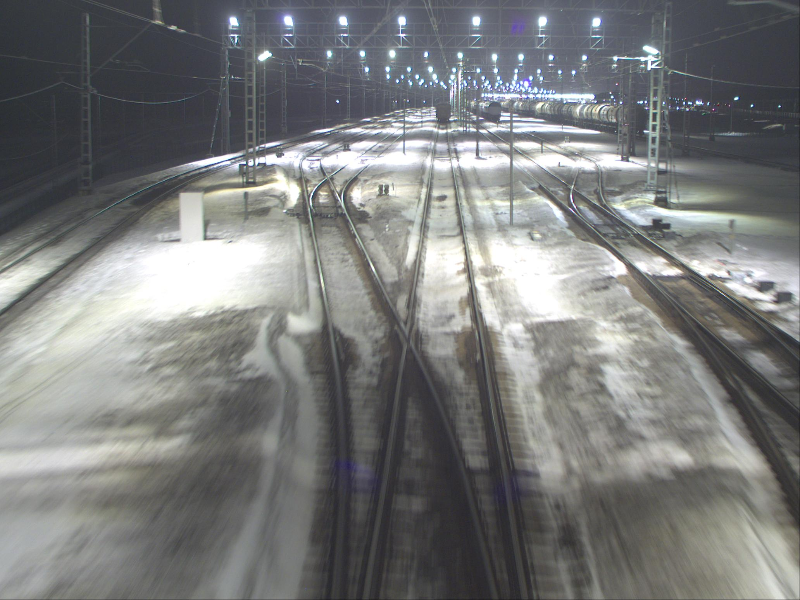railway_arrows: (360, 310, 499, 600)
